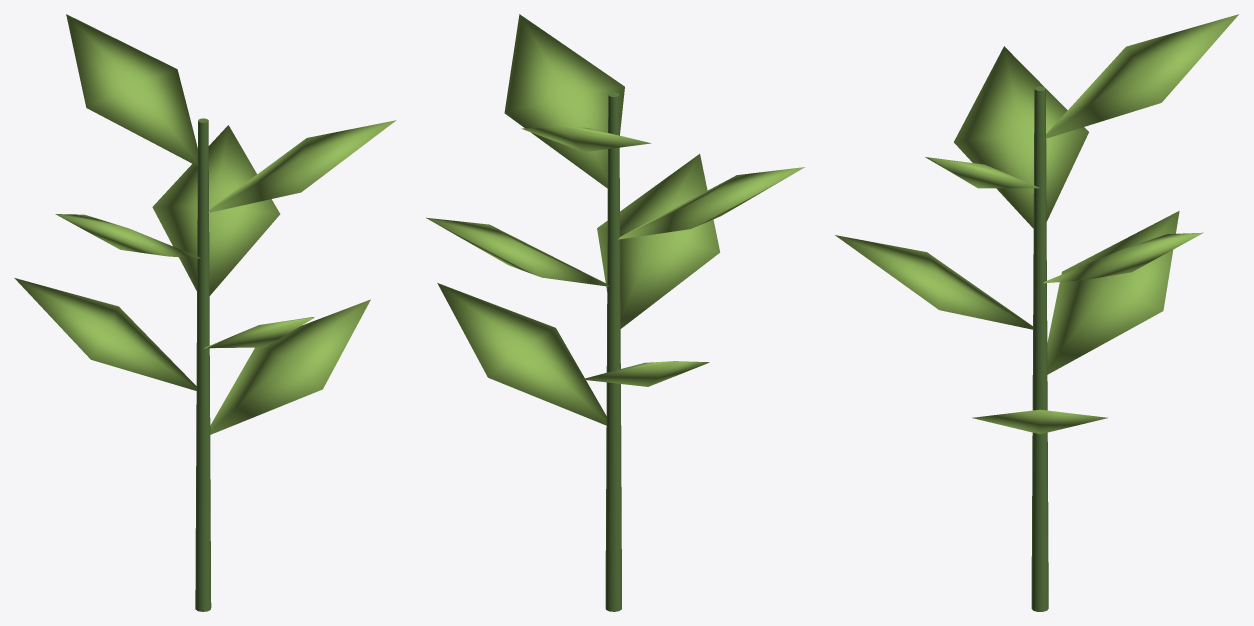
Rendered from crop_4_stage_2.fbx.
3 views of the same model, side by side, from view 1: azimuth 30°, elevation 25°; view 2: azimuth 150°, elevation 25°; view 3: azimuth 270°, elevation 25° (orthographic). The views are drawn at different scales.
Parts seen in each view (by area): view 1: crop_4_stage_2; view 2: crop_4_stage_2; view 3: crop_4_stage_2.
Part boxes in pixels (<box>): crop_4_stage_2: <box>14,14,396,611</box>; crop_4_stage_2: <box>426,14,804,611</box>; crop_4_stage_2: <box>835,14,1238,611</box>.
Size of the model in its own units: 0.38 by 0.585 by 0.3756.
Materials: 1 (1 with a texture image).
